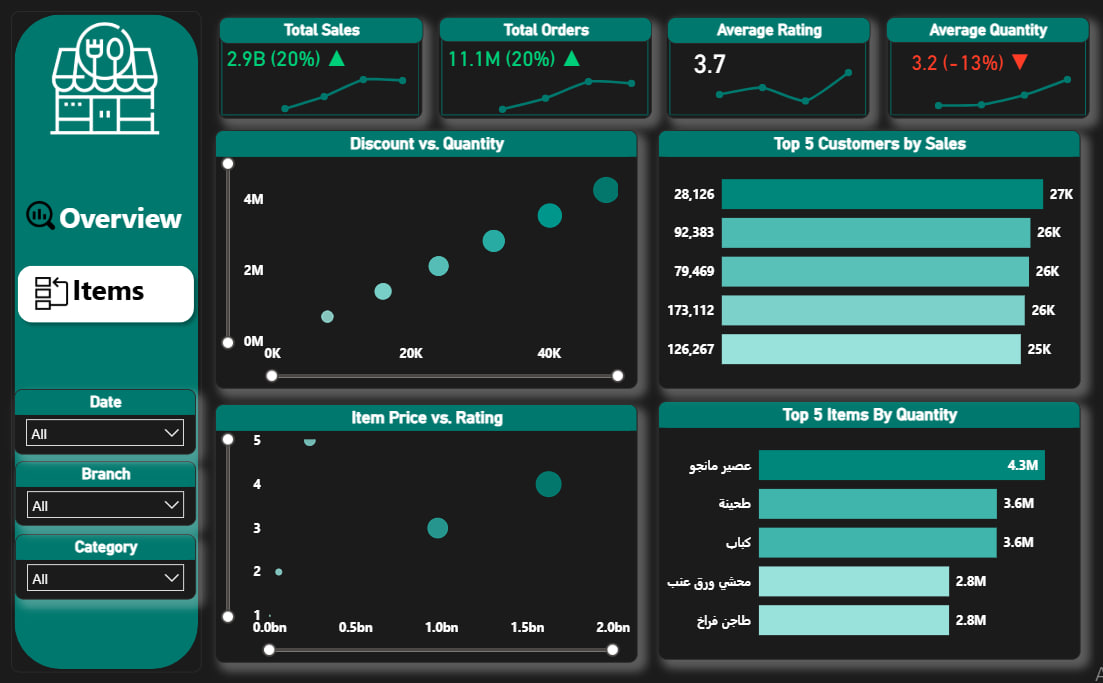

The dashboard page shown, as its layout file describes it:
{"tool":"powerbi","page":{"name":"Item & Customer Insights","canvas":[1280,800],"ordinal":1},"visuals":[{"type":"shape","box":[1028.2,22.3,234.8,119.3],"z":0},{"type":"shape","box":[253.1,23.6,237.4,118],"z":1000},{"type":"shape","box":[507.5,23.6,247.9,118],"z":2000},{"type":"shape","box":[12.7,16.5,221,767],"z":3000},{"type":"shape","box":[772.5,22.3,236.1,119.3],"z":4000},{"type":"card","title":"Average Rating","fields":{"Values":["#Measures.Average Rating"]},"box":[773,22.9,235.7,31.3],"z":5000},{"type":"scatterChart","title":"Item Price vs. Rating","fields":{"Y":["all_restaurants.rating"],"X":["#Measures.Total Sales"],"Size":["#Measures.Total Sales"]},"box":[248.9,472.4,490.2,299.7],"z":6000},{"type":"lineChart","title":"Average Rating","fields":{"Y":["#Measures.Average Rating"],"Category":["restaurant_dates.quarter"]},"box":[809.2,66.9,199.3,68.2],"z":7000},{"type":"card","title":"Average Rating","fields":{"Values":["#Measures.Average Rating"]},"box":[781.6,53.8,82.6,44.6],"z":8000},{"type":"card","title":"Total Orders","fields":{"Values":["#Measures.Average Rating"]},"box":[509,22.9,247.4,28.6],"z":9000},{"type":"lineChart","title":"Average Rating","fields":{"Category":["restaurant_dates.quarter"],"Y":["#Measures.Total Orders"]},"box":[557.2,79.8,199.4,62.2],"z":10000},{"type":"clusteredBarChart","title":"Top 5 Items By Quantity","fields":{"Category":["all_restaurants.item_name"],"Y":["Sum(all_restaurants.quantity)"]},"box":[762.7,468.2,490,299.7],"z":11000},{"type":"card","title":"Total Sales","fields":{"Values":["#Measures.Average Rating"]},"box":[253.7,22.9,237,31.3],"z":12000},{"type":"card","title":"Average Quantity","fields":{"Values":["#Measures.Average Rating"]},"box":[1027.2,22.9,235.7,29.9],"z":13000},{"type":"lineChart","title":"Average Rating","fields":{"Y":["#Measures.Average Qty"],"Category":["restaurant_dates.quarter"]},"box":[1063.6,70.8,199.3,70.8],"z":14000},{"type":"slicer","title":"Category","fields":{"Values":["all_restaurants.category"]},"box":[17.8,622.2,209.5,76.2],"z":15000},{"type":"slicer","title":"Branch","fields":{"Values":["all_restaurants.branch"]},"box":[17.8,538.4,209.5,74.9],"z":16000},{"type":"shape","box":[11.4,302.2,222.2,83.8],"z":17000},{"type":"lineChart","title":"Average Rating","fields":{"Y":["#Measures.Total Sales"],"Category":["restaurant_dates.quarter"]},"box":[307.4,77.2,182.6,64.3],"z":18000},{"type":"card","title":"Average Rating","fields":{"Values":["#Measures.Sales KPI"]},"box":[253.4,51.4,158.2,38.6],"z":19000},{"type":"slicer","title":"Date","fields":{"Values":["restaurant_dates.date_column.Variation.Date Hierarchy.Year"]},"box":[16.5,454.6,210.8,76.2],"z":20000},{"type":"textbox","box":[47,227.3,184.1,73.7],"z":21000},{"type":"image","box":[22.9,227.3,48.3,52.1],"z":22000},{"type":"image","box":[35.6,317.5,48.3,52.1],"z":23000},{"type":"textbox","box":[71.1,311.1,109.2,72.4],"z":24000},{"type":"clusteredBarChart","title":"Top 5 Customers by Sales","fields":{"Category":["all_restaurants.customer_id"],"Y":["#Measures.Total Sales"]},"box":[762.7,154.3,490,299.7],"z":25000},{"type":"scatterChart","title":"Discount vs. Quantity","fields":{"Y":["Sum(all_restaurants.quantity)"],"Size":["Sum(all_restaurants.quantity)"],"X":["Sum(all_restaurants.discount)"],"Category":["all_restaurants.item_name"]},"box":[249.1,154.5,490.2,299.7],"z":26000},{"type":"card","title":"Average Rating","fields":{"Values":["#Measures.Qty KPI"]},"box":[1028.2,53.8,195.4,44.6],"z":27000},{"type":"card","title":"Average Rating","fields":{"Values":["#Measures.Orders KPI"]},"box":[509.3,52.7,176.2,37.3],"z":28000},{"type":"image","box":[47,24.1,147.3,139.7],"z":29000}]}

Visuals, with their boxes in screenshot pixels (x1, y1, x2, y2), scaled from the page's 1280x800 canvas onto the 1103x683 screenshot:
shape: 886 19 1088 121
shape: 218 20 423 121
shape: 437 20 651 121
shape: 11 14 201 669
shape: 666 19 869 121
"Average Rating" card: 666 20 869 46
"Item Price vs. Rating" scatterChart: 214 403 637 659
"Average Rating" lineChart: 697 57 869 115
"Average Rating" card: 674 46 745 84
"Total Orders" card: 439 20 652 44
"Average Rating" lineChart: 480 68 652 121
"Top 5 Items By Quantity" clusteredBarChart: 657 400 1079 656
"Total Sales" card: 219 20 423 46
"Average Quantity" card: 885 20 1088 45
"Average Rating" lineChart: 917 60 1088 121
"Category" slicer: 15 531 196 596
"Branch" slicer: 15 460 196 524
shape: 10 258 201 330
"Average Rating" lineChart: 265 66 422 121
"Average Rating" card: 218 44 355 77
"Date" slicer: 14 388 196 453
textbox: 41 194 199 257
image: 20 194 61 239
image: 31 271 72 316
textbox: 61 266 155 327
"Top 5 Customers by Sales" clusteredBarChart: 657 132 1079 388
"Discount vs. Quantity" scatterChart: 215 132 637 388
"Average Rating" card: 886 46 1054 84
"Average Rating" card: 439 45 591 77
image: 41 21 167 140
